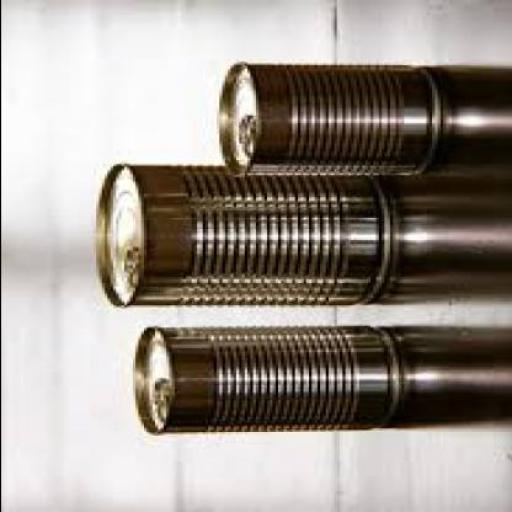metal: (92, 164, 395, 307), (129, 324, 403, 434), (216, 62, 444, 177)
